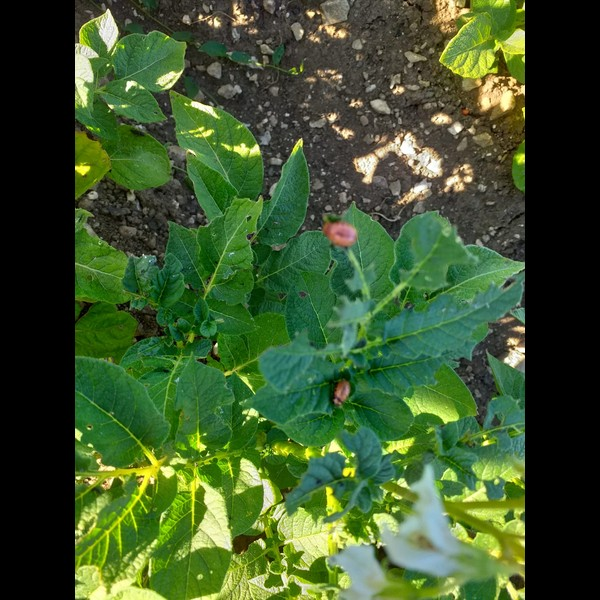hrosc: (318, 217, 357, 248), (333, 379, 349, 408)
